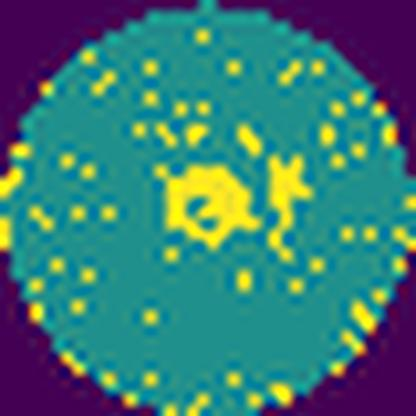Center: (160, 154, 319, 263)
